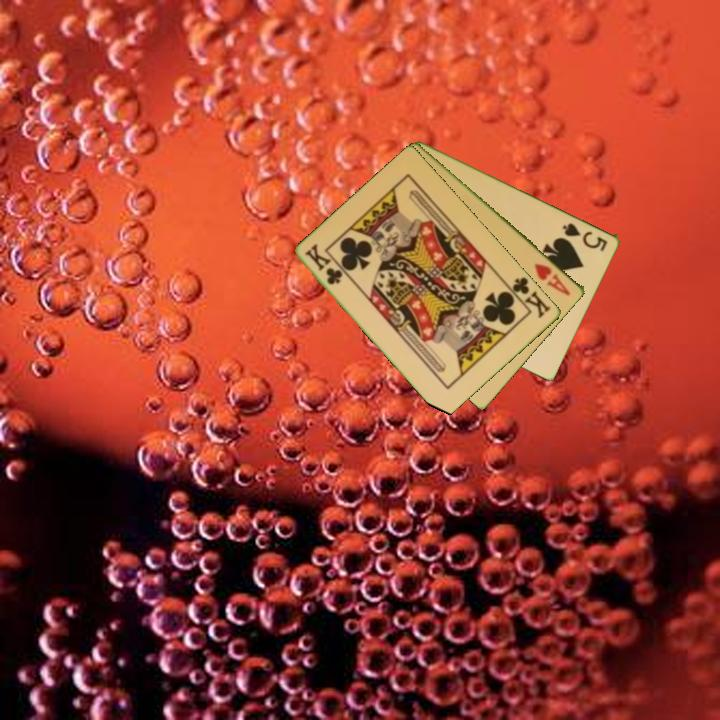5s: (559, 219, 611, 254)
Ah: (531, 259, 574, 299)
Kc: (504, 273, 554, 321), (301, 241, 346, 288)
